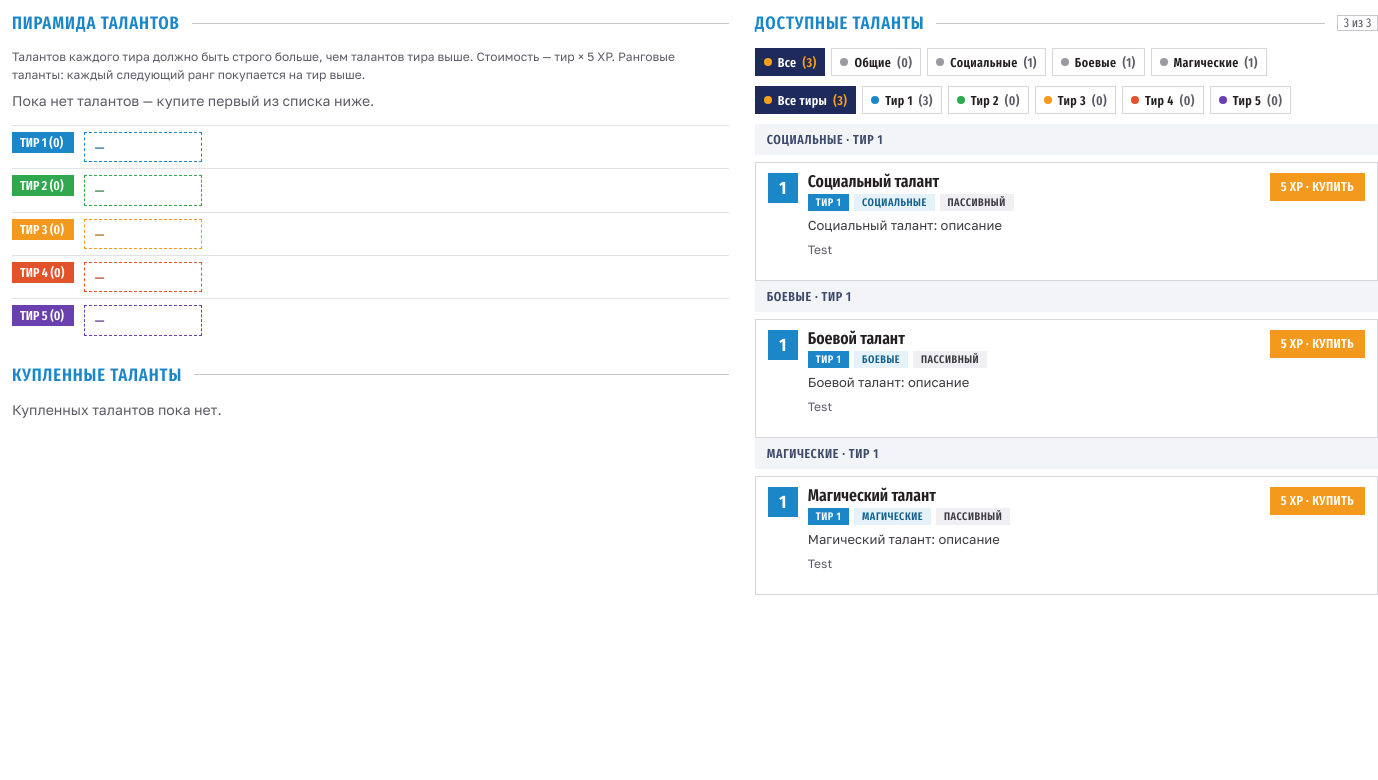
it: TalentsTab › фильтрует доступные таланты по категории
This screenshot has width=1378, height=780.
Check: the text "Боевой талант" is shown, box [808, 328, 905, 349]
Check: the text "Социальный талант" is shown, box [808, 171, 939, 192]
Click the button "Социальные (1)" at (987,62), box [927, 48, 1046, 76]
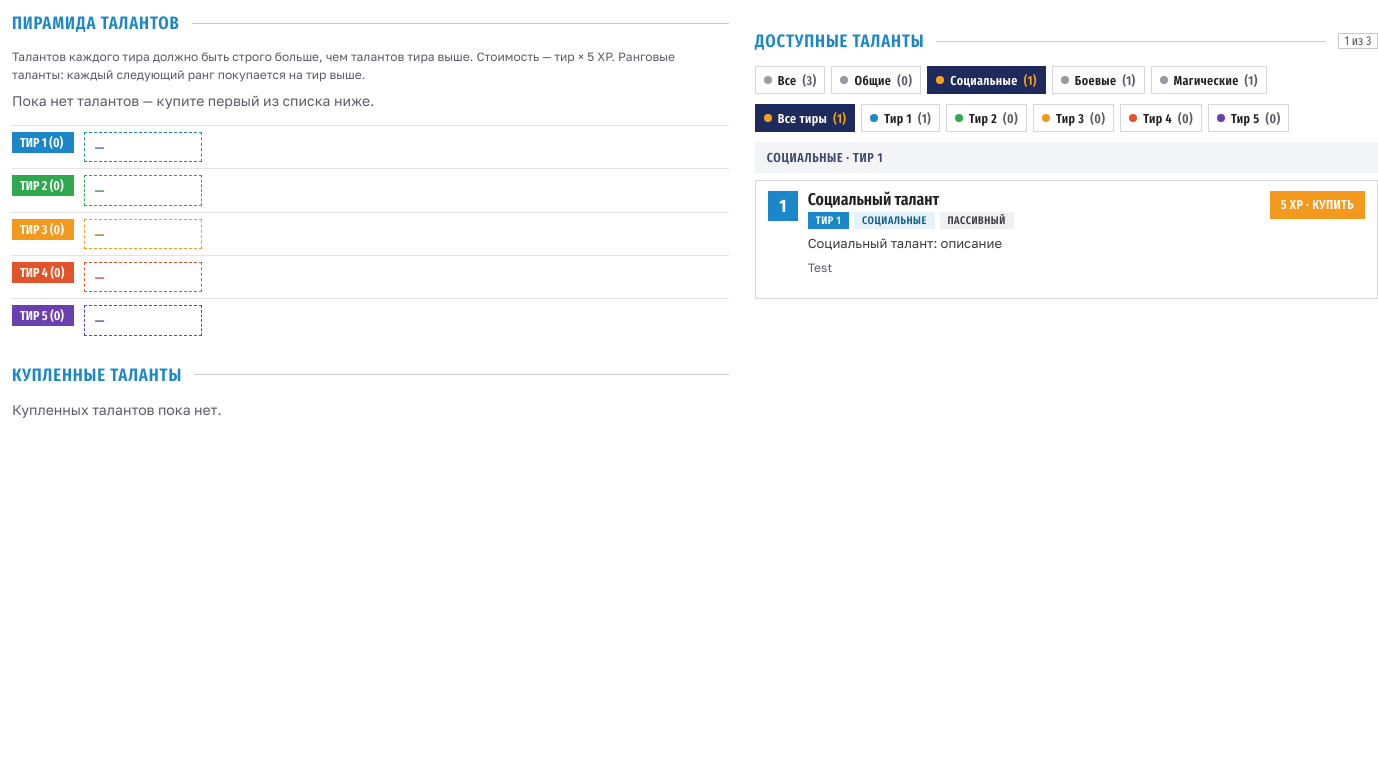
Check: the text "Социальный талант" is shown, box [808, 189, 939, 210]
Check: the text "Боевой талант" is gone
Check: the text "Магический талант" is gone
